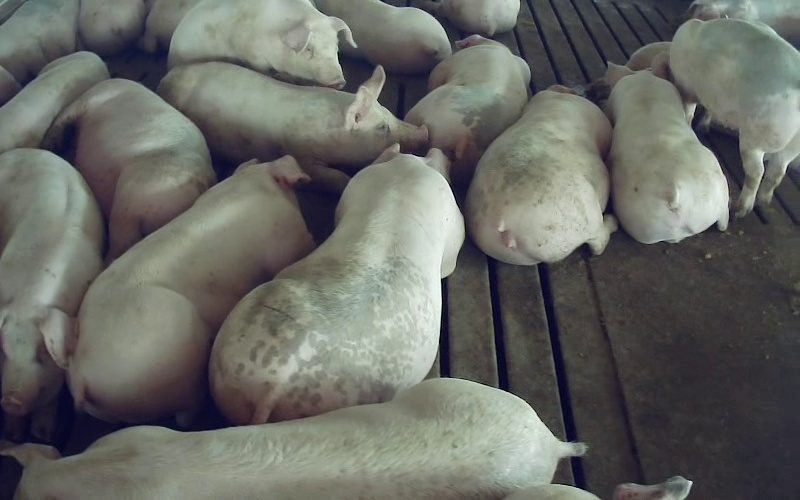pig: (209, 145, 464, 423), (0, 379, 584, 499), (66, 157, 313, 422), (158, 62, 427, 192), (42, 79, 215, 261), (465, 86, 615, 264), (669, 19, 799, 216), (606, 63, 728, 243), (405, 35, 530, 187), (168, 0, 353, 88), (0, 51, 109, 153), (316, 0, 451, 74)
